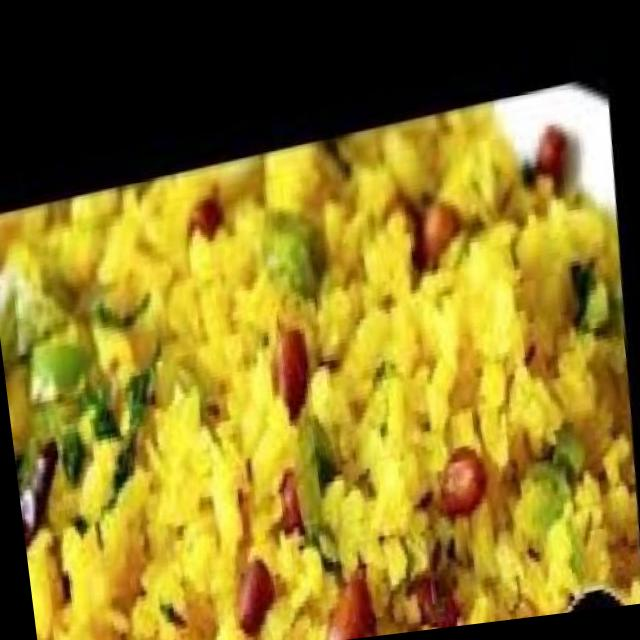poha: (0, 75, 640, 640)
